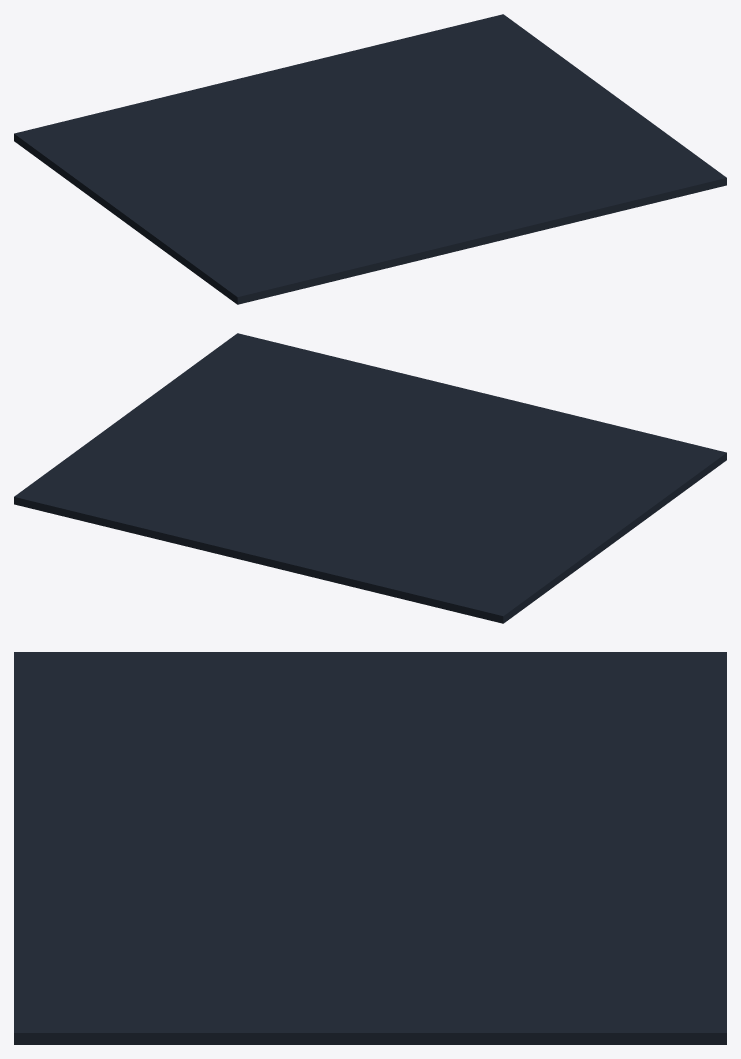
The model's file is 05_PS_Studio_CeilingStructure.fbx.
3 renders of one model, top to bottom at view 1: azimuth 30°, elevation 25°; view 2: azimuth 150°, elevation 25°; view 3: azimuth 270°, elevation 25°, orthographic. The views are drawn at different scales.
Visible parts, largest first — view 1: PS_Studio_CeilingStructure; view 2: PS_Studio_CeilingStructure; view 3: PS_Studio_CeilingStructure.
Boxes of the visible parts, x1=… form: PS_Studio_CeilingStructure: x1=14, y1=14, x2=726, y2=304; PS_Studio_CeilingStructure: x1=14, y1=333, x2=726, y2=623; PS_Studio_CeilingStructure: x1=14, y1=652, x2=726, y2=1044.
Bounding box in the file's own units: 1820 × 44 × 1440.
